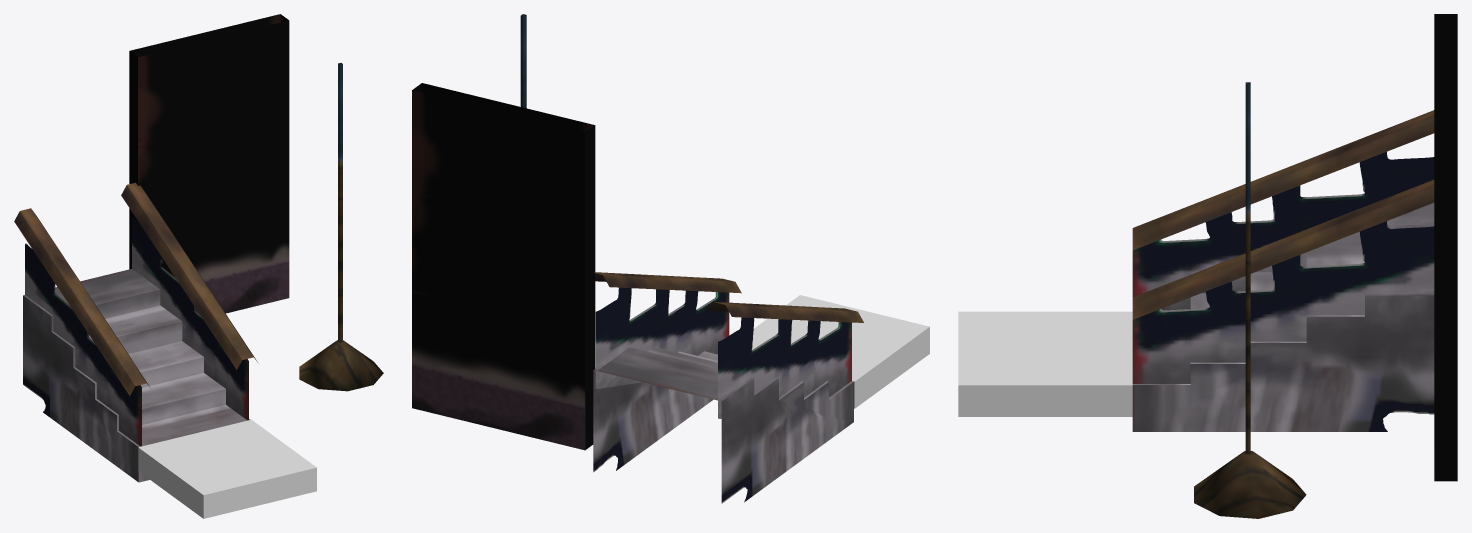
The model's file is fatherApartmentsBasementStairEnterEnvironment.fbx.
3 views of the same model, side by side, from view 1: azimuth 30°, elevation 25°; view 2: azimuth 150°, elevation 25°; view 3: azimuth 270°, elevation 25° (orthographic). The views are drawn at different scales.
Visible parts, largest first — view 1: BasementStairEnter, BasementStairEnterWall, BasementStairEnterFloor, BasementLightLamp; view 2: BasementStairEnterWall, BasementStairEnter, BasementStairEnterFloor, BasementLightLamp; view 3: BasementStairEnter, BasementStairEnterFloor, BasementStairEnterWall, BasementLightLamp.
Boxes of the visible parts, bbox=[...] form: BasementStairEnter: bbox=[14, 182, 257, 482]; BasementStairEnterWall: bbox=[129, 14, 289, 314]; BasementStairEnterFloor: bbox=[138, 419, 316, 518]; BasementLightLamp: bbox=[299, 63, 383, 391]; BasementStairEnterWall: bbox=[412, 83, 595, 450]; BasementStairEnter: bbox=[593, 272, 863, 503]; BasementStairEnterFloor: bbox=[751, 295, 929, 408]; BasementLightLamp: bbox=[520, 14, 526, 108]; BasementStairEnter: bbox=[1132, 110, 1434, 431]; BasementStairEnterFloor: bbox=[958, 311, 1132, 416]; BasementStairEnterWall: bbox=[1434, 14, 1457, 481]; BasementLightLamp: bbox=[1194, 82, 1306, 518].
Size of the model in its own units: 770 by 827 by 860.
Materials: 2 (2 with a texture image).
